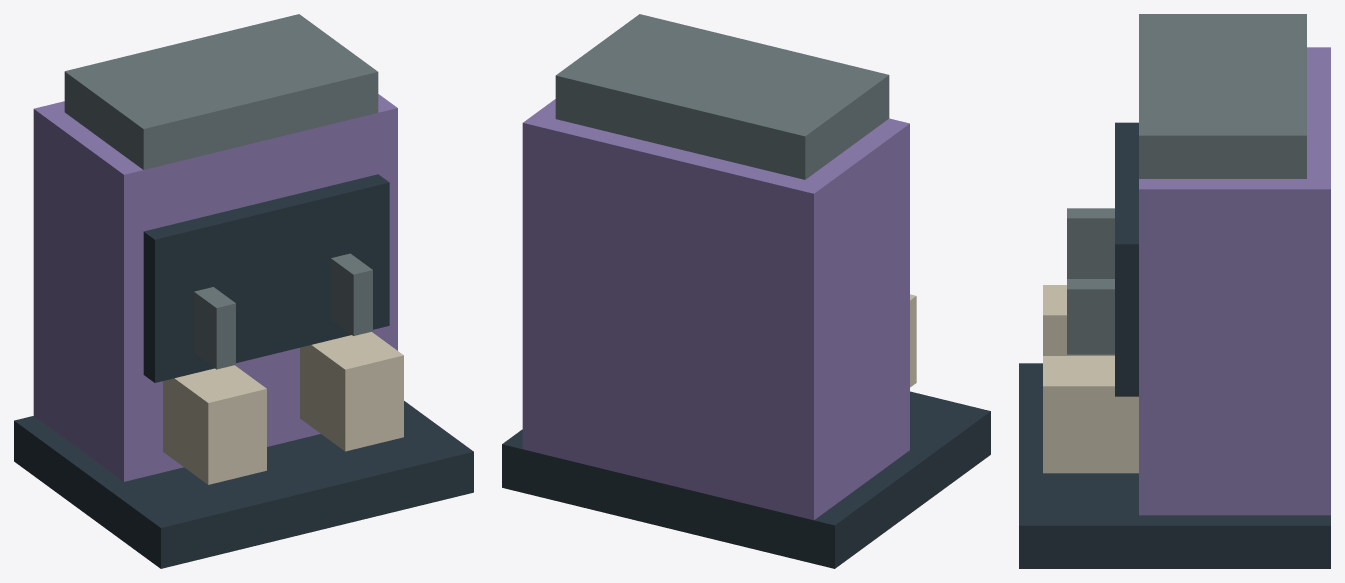
File: software-13.glb
3 views of the same model, side by side, from view 1: azimuth 30°, elevation 25°; view 2: azimuth 150°, elevation 25°; view 3: azimuth 270°, elevation 25° (orthographic). The views are drawn at different scales.
Parts seen in each view (by area): view 1: Coffee machine; view 2: Coffee machine; view 3: Coffee machine.
Boxes of the visible parts, left/top/right/bottom form: Coffee machine: left=14, top=14, right=473, bottom=568; Coffee machine: left=502, top=14, right=990, bottom=568; Coffee machine: left=1019, top=14, right=1330, bottom=568.
Bounding box in the file's own units: 1.28 × 1.52 × 1.04.
